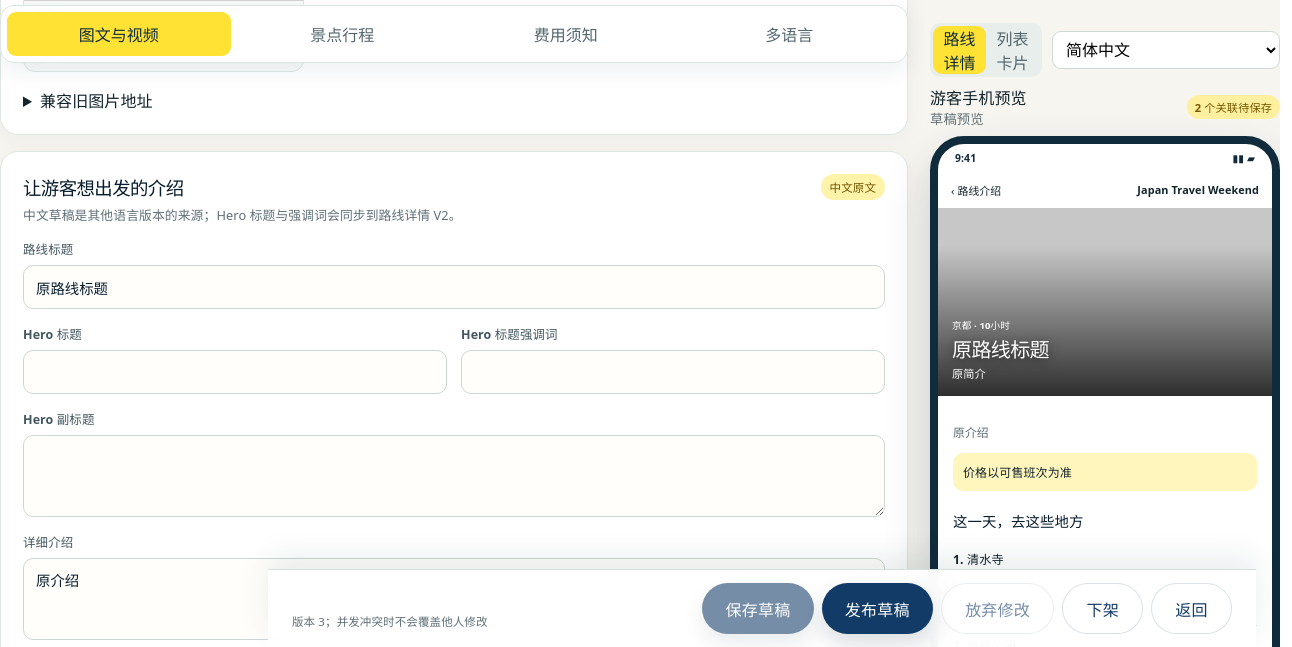
Test case: 有未保存修改时禁止发布旧草稿
(page scrolled)
Step 1. Replace the text in the field labelled "路线标题" with "尚未保存的新标题" → (454, 287), box [23,265,885,309]
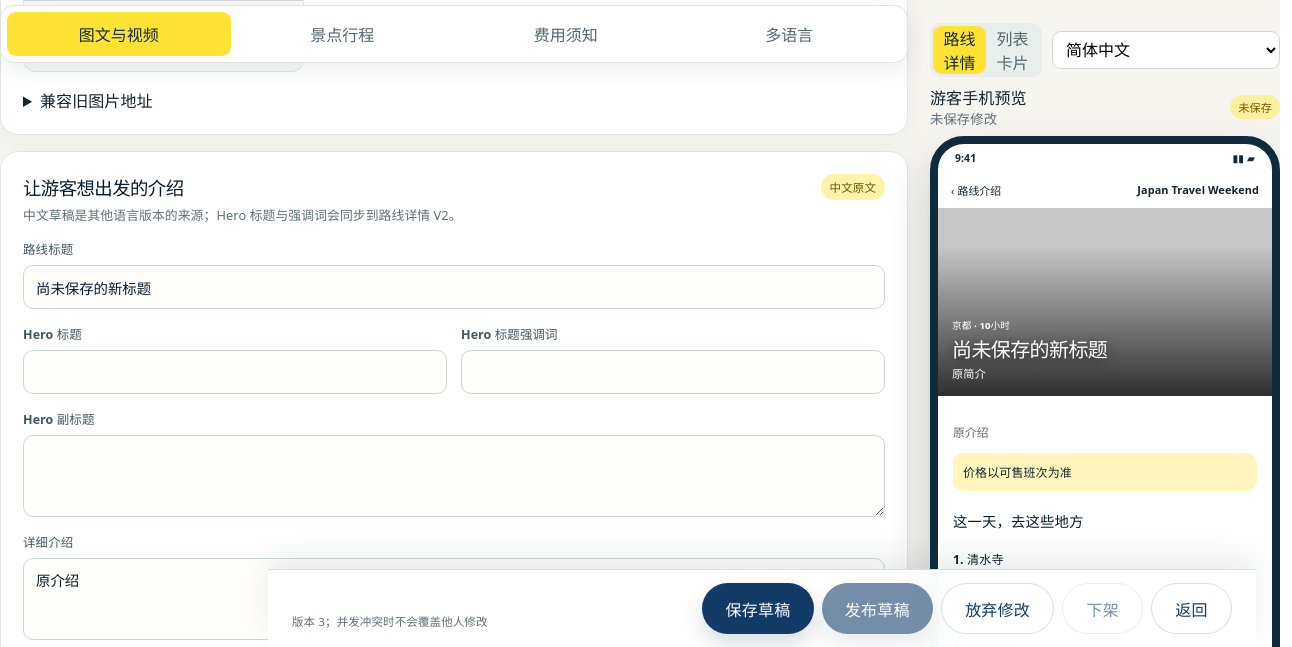
Now the button "发布草稿" is disabled, box [822,583,933,634]
